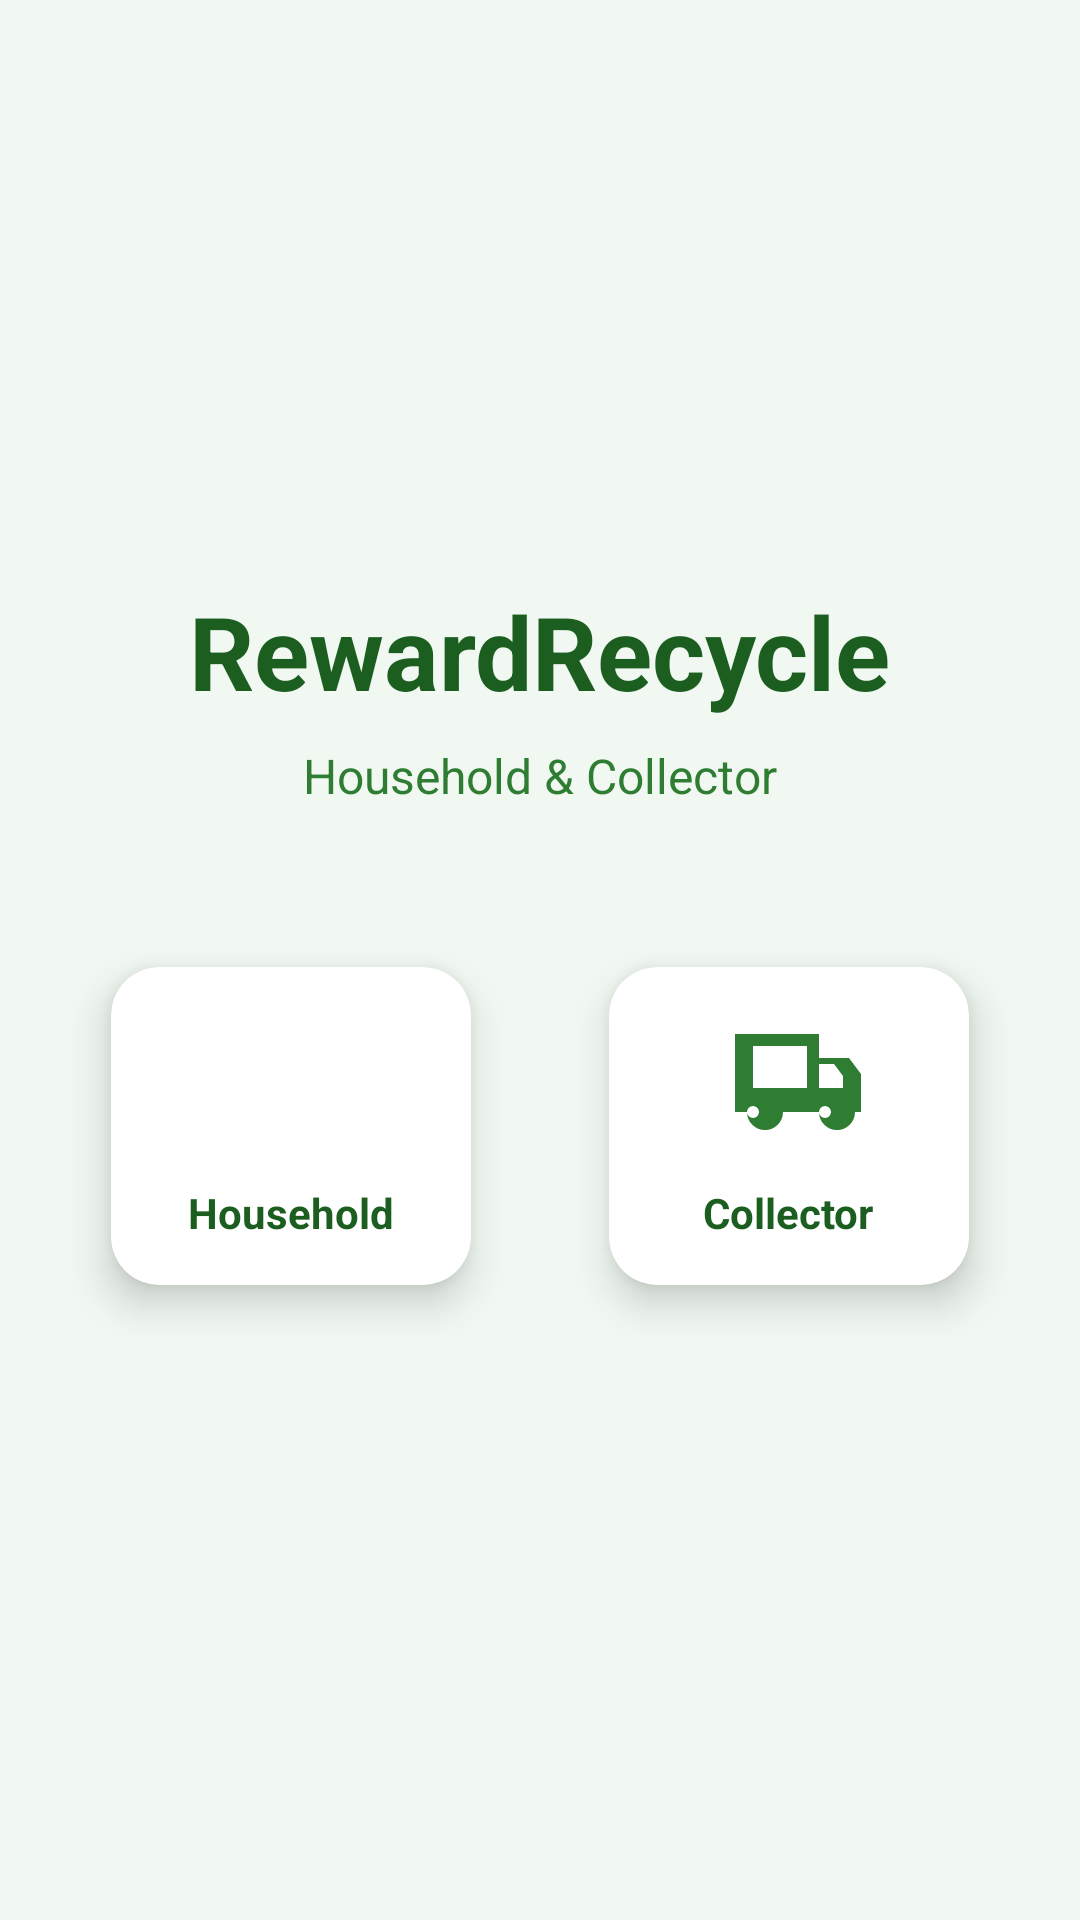

Named icons in this screenshot (1080x1920) and their bounding boxes, (x1, y1, x2, y2):
local shipping: (735, 1034, 861, 1130)
